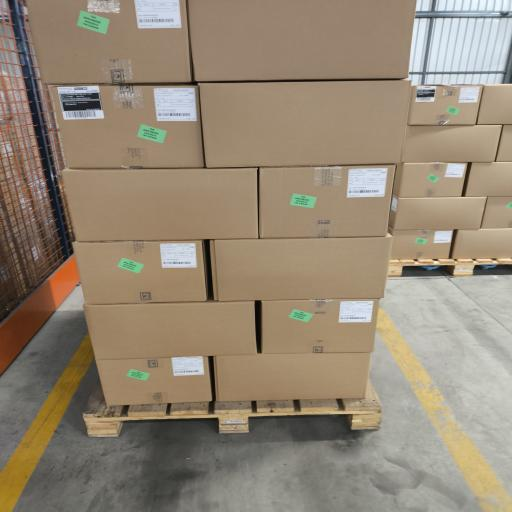pallet: (84, 382, 381, 436), (389, 259, 511, 277)
